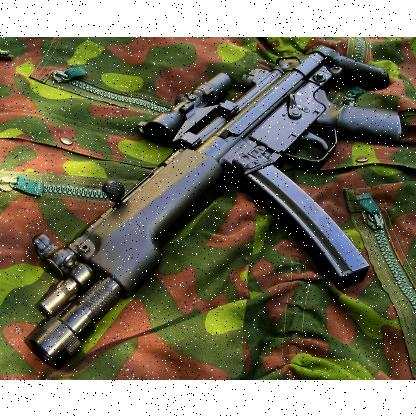gun: (32, 44, 402, 366)
